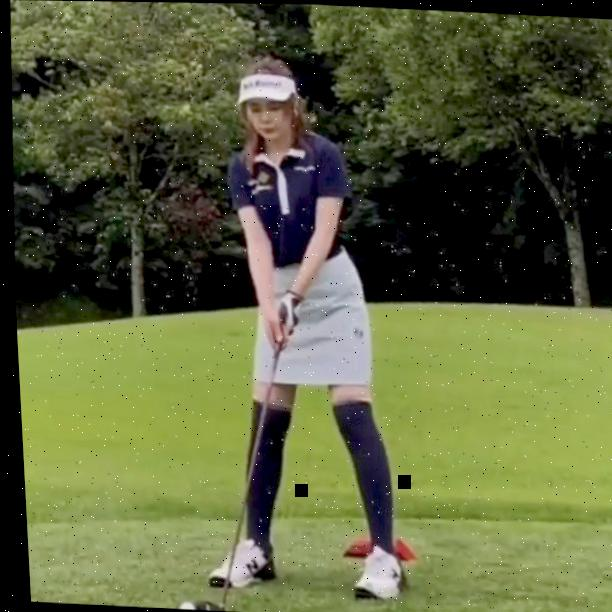ClubHead: (190, 600, 216, 610)
GolfBall: (171, 600, 189, 609)
